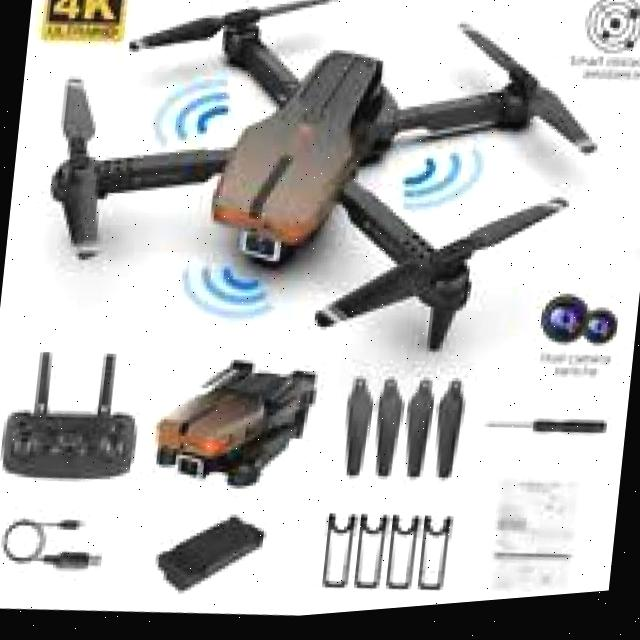drone: (0, 0, 597, 408)
